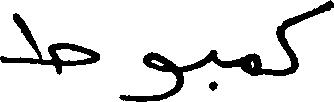X: (0, 8, 98, 79), (279, 0, 333, 80), (123, 47, 182, 101), (207, 45, 217, 95), (246, 48, 259, 80)
